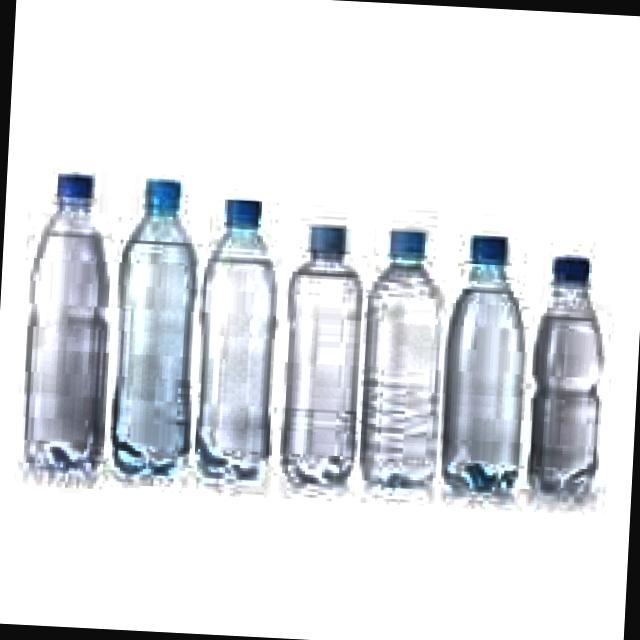plastic bottle: (113, 180, 195, 474), (25, 174, 106, 469), (197, 200, 275, 478), (443, 236, 523, 491), (284, 227, 362, 483), (362, 231, 440, 486), (531, 257, 601, 493)
